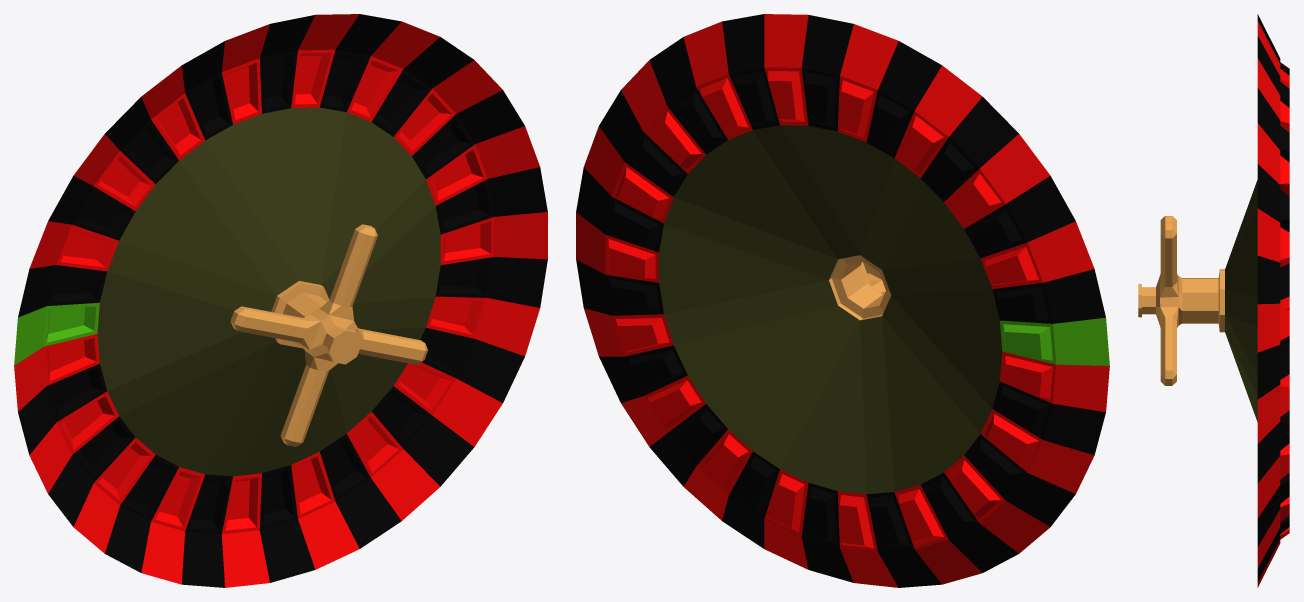
File: WheelMilitary.glb
3 renders of one model, left to right at view 1: azimuth 30°, elevation 25°; view 2: azimuth 150°, elevation 25°; view 3: azimuth 270°, elevation 25°, orthographic. The views are drawn at different scales.
Parts seen in each view (by area): view 1: WheelMilitary; view 2: WheelMilitary; view 3: WheelMilitary.
Part boxes in pixels (x1,y1,x2,y2): WheelMilitary: (14, 14, 547, 587); WheelMilitary: (576, 14, 1109, 587); WheelMilitary: (1138, 14, 1289, 587).
Bounding box in the file's own units: 0.6225 × 0.6231 × 0.164.
Materials: 1 (1 with a texture image).
